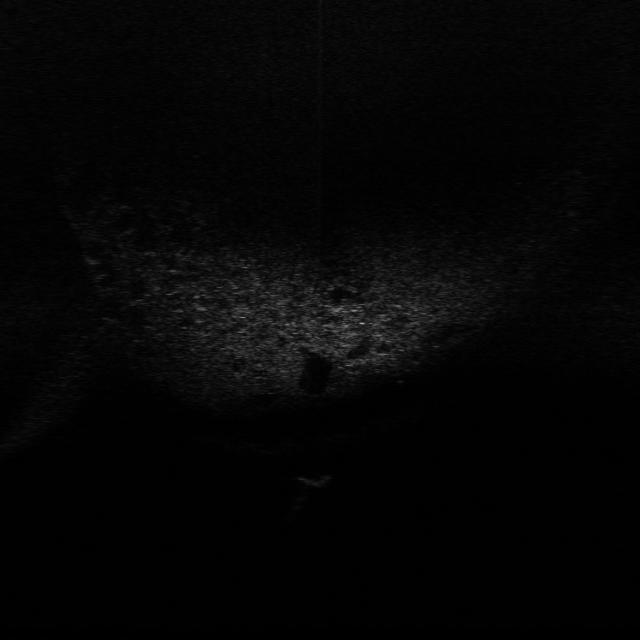cube: (293, 467, 338, 488)
